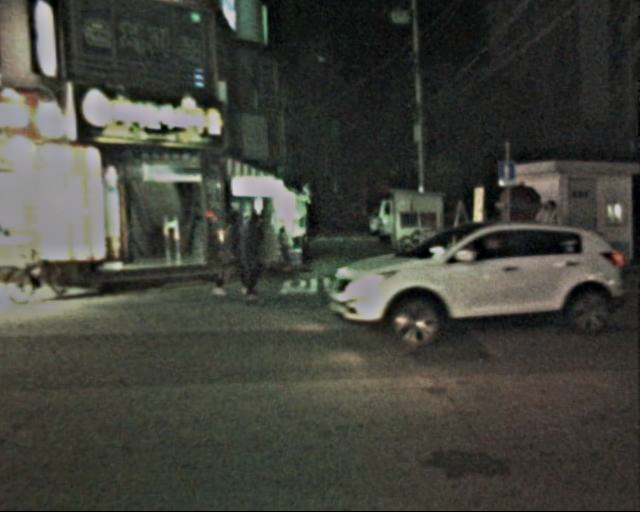person: (204, 205, 251, 302), (229, 212, 272, 303), (531, 198, 570, 294)
